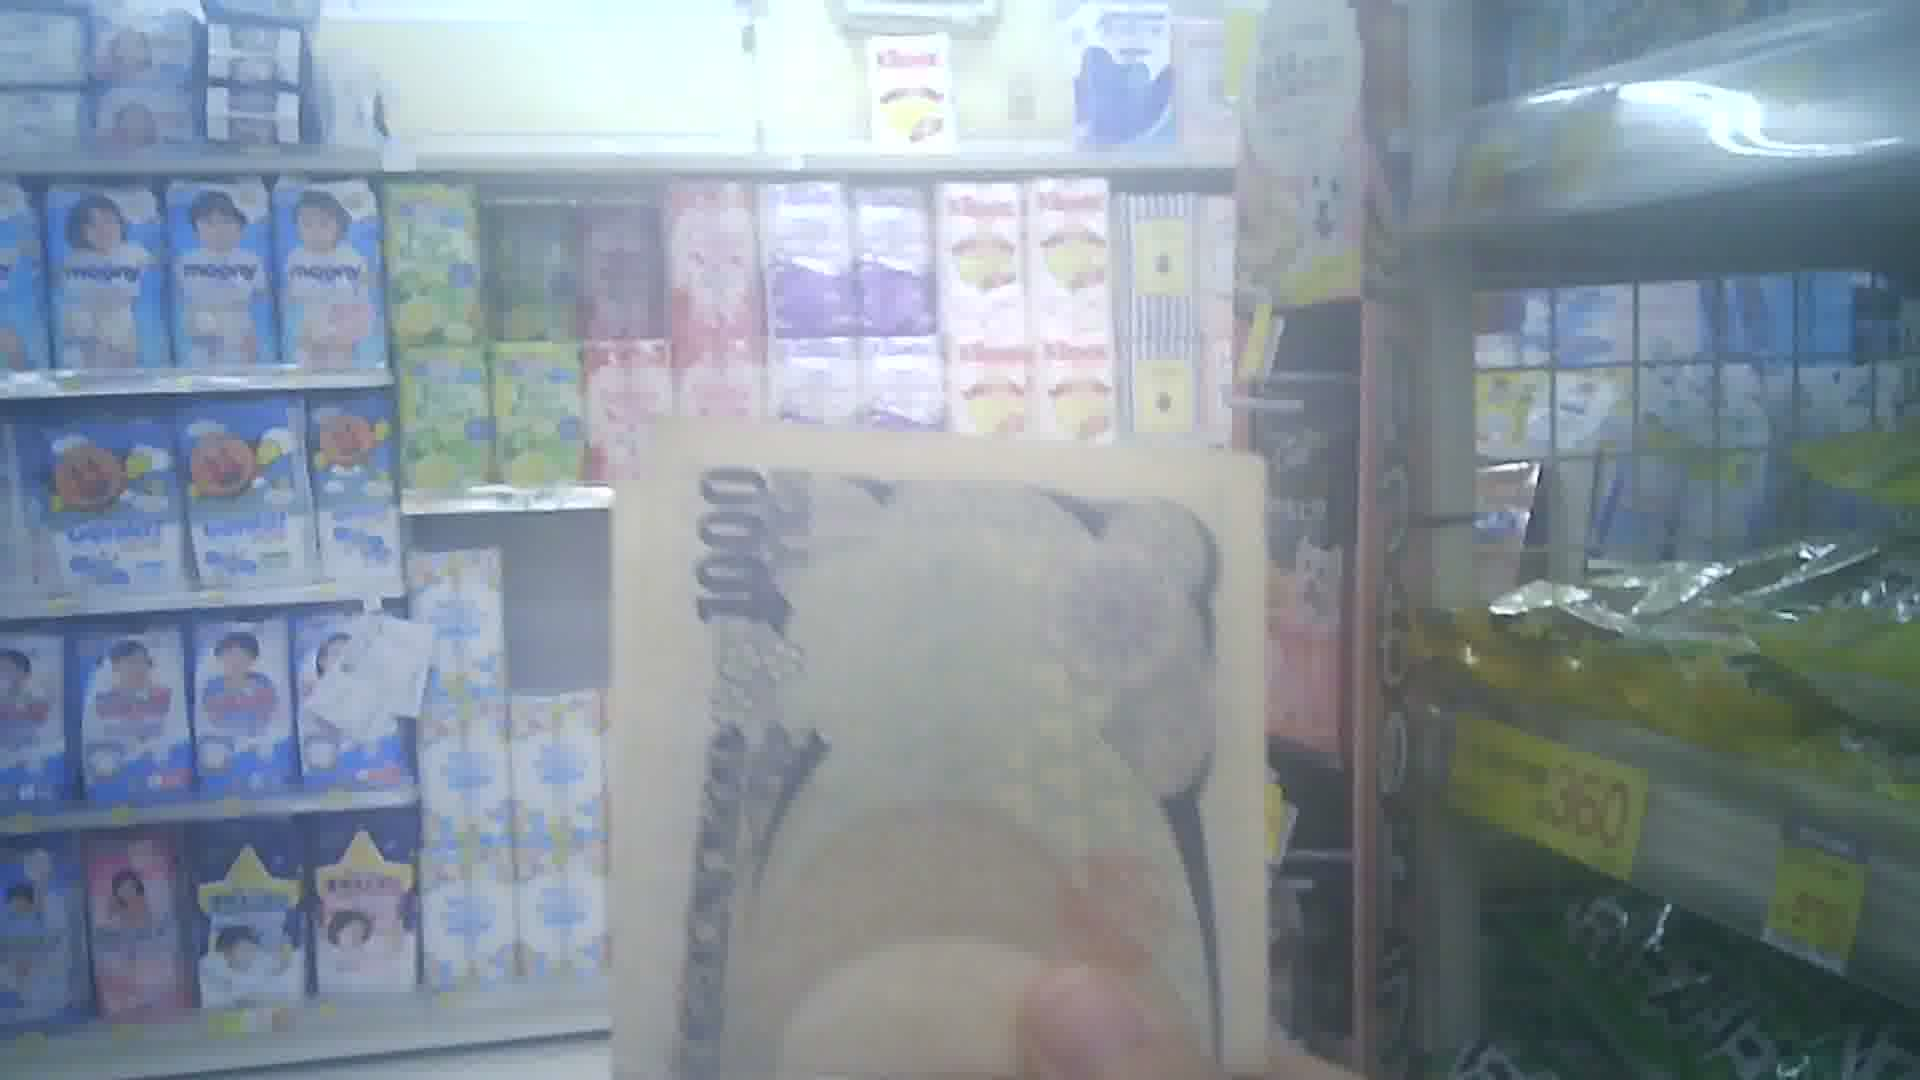1,000 Yen: (592, 389, 1267, 1069)
